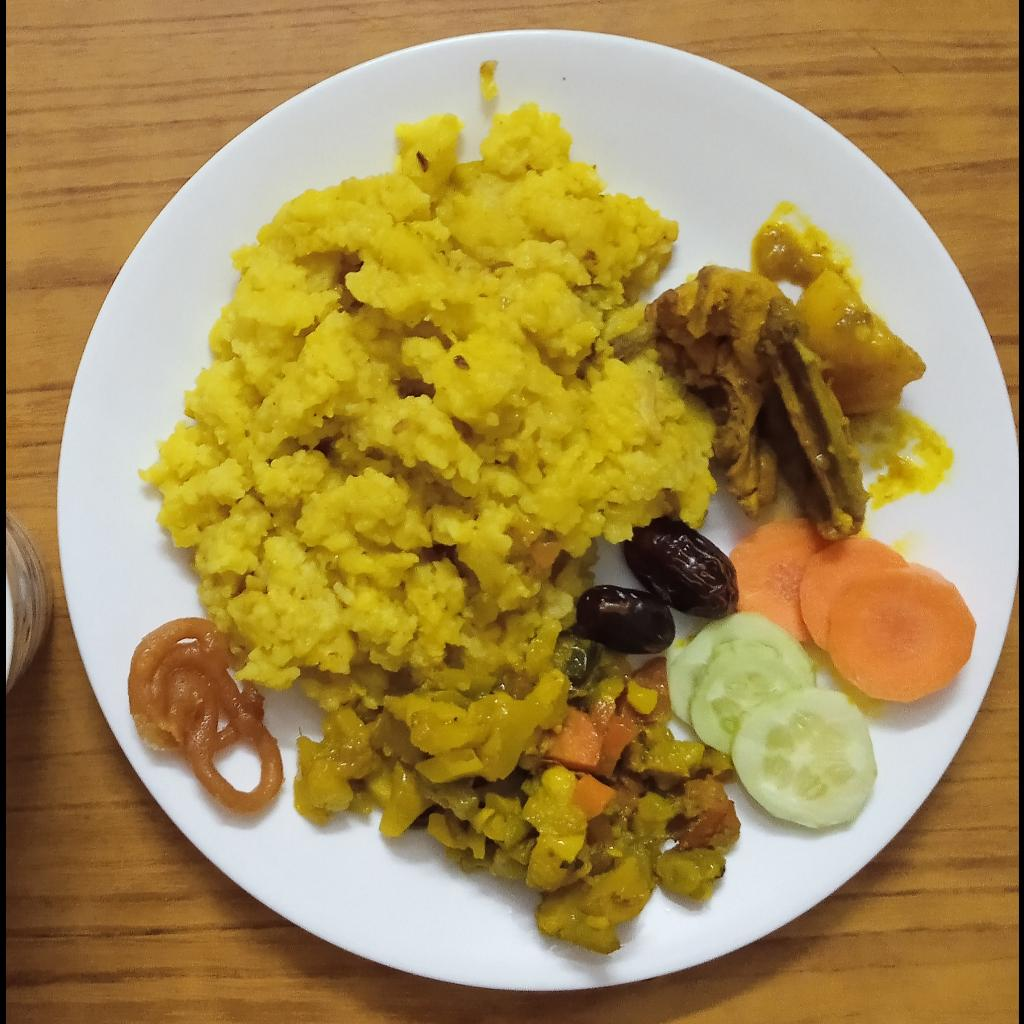carrot: (730, 518, 976, 704)
chicken: (654, 264, 870, 538)
cucumber: (669, 611, 878, 828)
dates: (576, 520, 739, 655)
jilapi: (126, 616, 284, 815)
khichuri: (136, 105, 718, 713)
potato: (794, 269, 925, 420)
vegetable: (294, 638, 740, 956)
